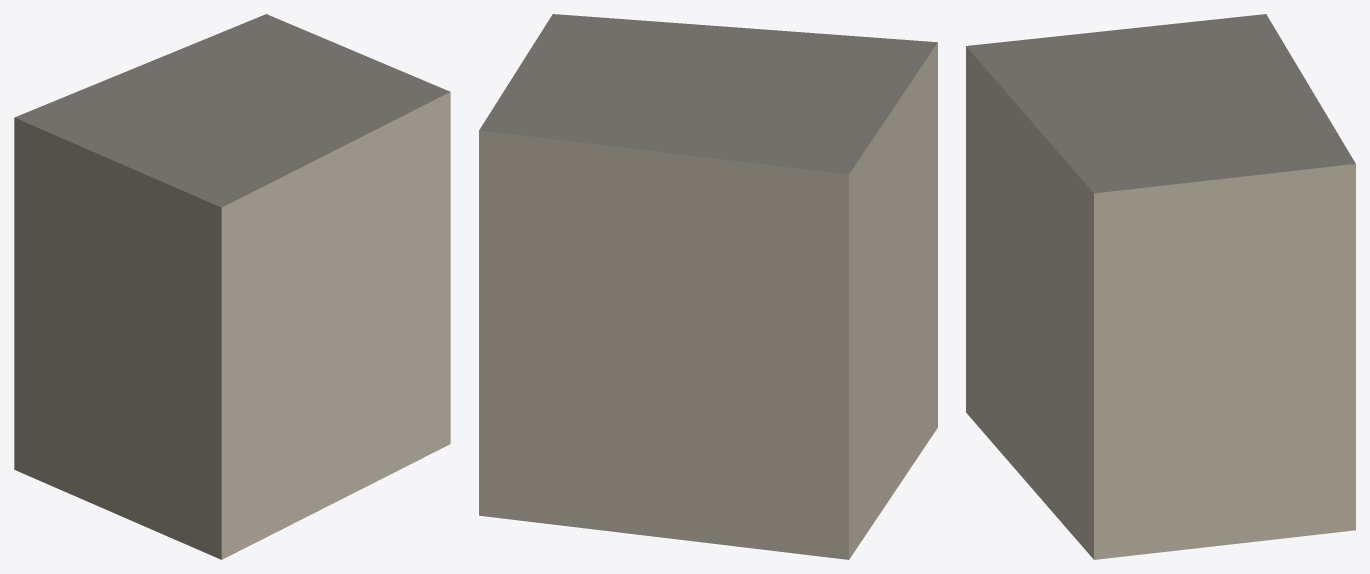
3 renders of one model, left to right at view 1: azimuth 30°, elevation 25°; view 2: azimuth 150°, elevation 25°; view 3: azimuth 270°, elevation 25°, orthographic. The views are drawn at different scales.
Parts seen in each view (by area): view 1: HP-w1197047255; view 2: HP-w1197047255; view 3: HP-w1197047255.
Part boxes in pixels (box(x1,y1,x2,y2)): HP-w1197047255: box(14, 14, 450, 559); HP-w1197047255: box(479, 14, 937, 559); HP-w1197047255: box(966, 14, 1355, 559).
Size of the model in its own units: 18.9 by 18 by 17.35.
